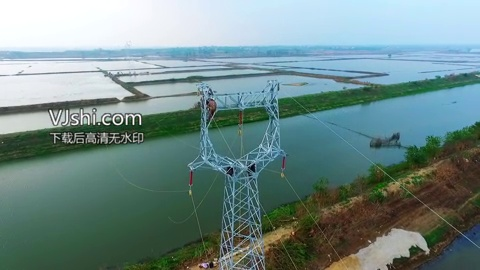tower_body: (185, 75, 289, 270)
tower_foot: (217, 233, 267, 268)
tower_head: (189, 78, 286, 181)
